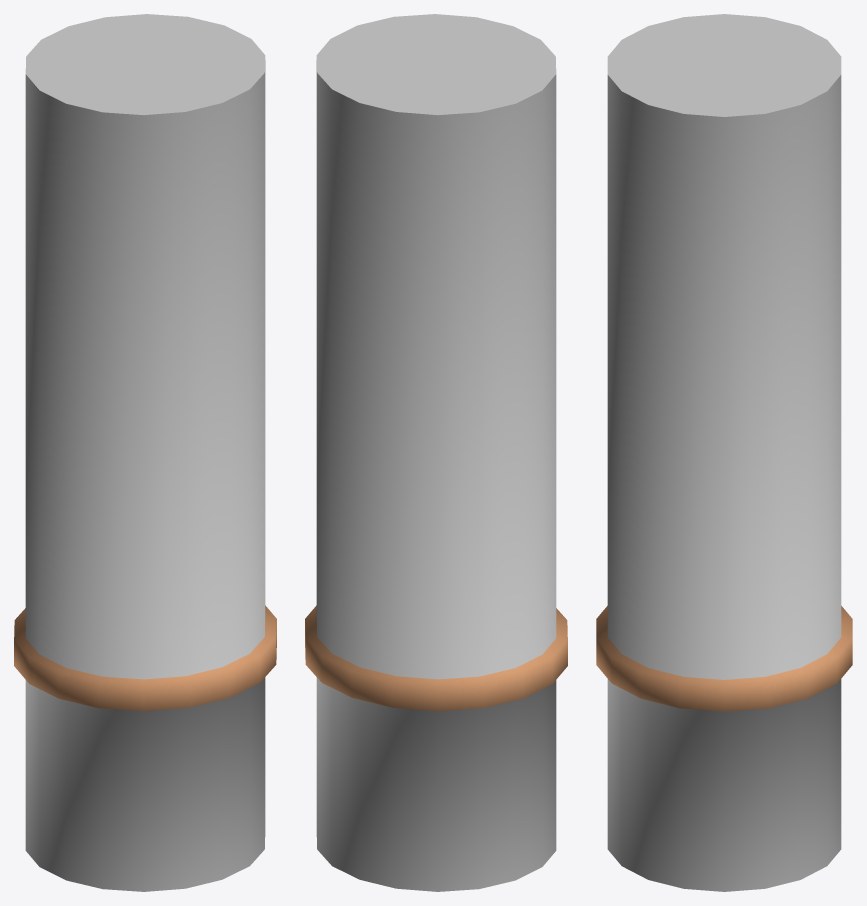
The model's file is filar.FBX.
3 views of the same model, side by side, from view 1: azimuth 30°, elevation 25°; view 2: azimuth 150°, elevation 25°; view 3: azimuth 270°, elevation 25° (orthographic).
Visible parts, largest first — view 1: Cylinder075; view 2: Cylinder075; view 3: Cylinder075.
Boxes of the visible parts, <box> form: Cylinder075: <box>14,14,276,891</box>; Cylinder075: <box>305,14,567,891</box>; Cylinder075: <box>596,14,852,891</box>.
Size of the model in its own units: 2.93 by 9.38 by 2.81.
